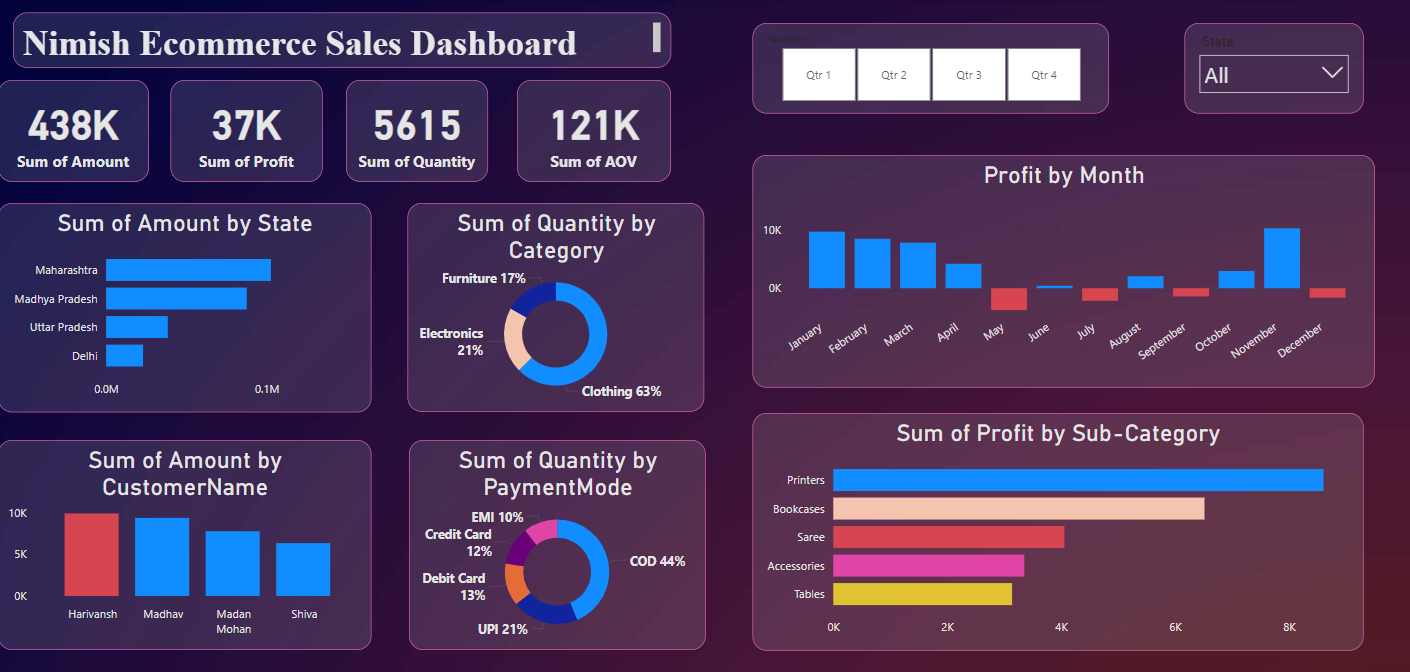

The dashboard page shown, as its layout file describes it:
{"tool":"powerbi","page":{"name":"Page 1","canvas":[1500,720],"ordinal":0},"visuals":[{"type":"textbox","box":[15.9,14.3,698.3,58.9],"z":0},{"type":"columnChart","title":"Profit by Month","fields":{"Y":["Sum(Details.Profit)"],"Category":["Orders.Order Date.Variation.Date Hierarchy.Month"]},"box":[800.3,165,660.1,246.6],"z":1000},{"type":"barChart","fields":{"Category":["Details.Sub-Category"],"Y":["Sum(Details.Profit)"]},"box":[800.3,438.3,647.7,252],"z":2000},{"type":"donutChart","fields":{"Category":["Details.Category"],"Y":["Sum(Details.Quantity)"]},"box":[436.5,234.2,314.1,204.1],"z":3000},{"type":"donutChart","fields":{"Category":["Details.PaymentMode","Details.Category"],"Y":["Sum(Details.Quantity)"]},"box":[436.5,466.7,314.1,223.6],"z":4000},{"type":"card","fields":{"Values":["Sum(Details.Amount)"]},"box":[0,85.2,159.7,108.2],"z":5000},{"type":"card","fields":{"Values":["Sum(Details.Profit)"]},"box":[182.8,85.2,161.5,108.2],"z":6000},{"type":"card","fields":{"Values":["Sum(Details.Quantity)"]},"box":[369.1,85.2,150.8,108.2],"z":7000},{"type":"card","fields":{"Values":["Sum(Details.AOV)"]},"box":[550.1,85.2,163.3,108.2],"z":8000},{"type":"barChart","fields":{"Category":["Orders.State"],"Y":["Sum(Details.Amount)"]},"box":[0,216.5,395.7,221.8],"z":9000},{"type":"columnChart","fields":{"Category":["Orders.CustomerName"],"Y":["Sum(Details.Amount)"]},"box":[0,467,396,224],"z":10000},{"type":"slicer","fields":{"Values":["Orders.Order Date.Variation.Date Hierarchy.Quarter"]},"box":[800.3,24.8,378,95.8],"z":11000},{"type":"slicer","fields":{"Values":["Orders.State"]},"box":[1258.1,24.8,189.9,95.8],"z":11001}]}

Visuals, with their boxes in screenshot pixels (x1, y1, x2, y2), scaled from the page's 1500x720 canvas onto the 1410x672 screenshot:
textbox: region(15, 13, 671, 68)
"Profit by Month" columnChart: region(752, 154, 1373, 384)
barChart - Details.Sub-Category x Sum(Details.Profit): region(752, 409, 1361, 644)
donutChart - Details.Category x Sum(Details.Quantity): region(410, 219, 706, 409)
donutChart - Details.PaymentMode x Details.Category: region(410, 436, 706, 644)
card - Sum(Details.Amount): region(0, 80, 150, 181)
card - Sum(Details.Profit): region(172, 80, 324, 181)
card - Sum(Details.Quantity): region(347, 80, 489, 181)
card - Sum(Details.AOV): region(517, 80, 671, 181)
barChart - Orders.State x Sum(Details.Amount): region(0, 202, 372, 409)
columnChart - Orders.CustomerName x Sum(Details.Amount): region(0, 436, 372, 645)
slicer - Orders.Order Date.Variation.Date Hierarchy.Quarter: region(752, 23, 1108, 113)
slicer - Orders.State: region(1183, 23, 1361, 113)
